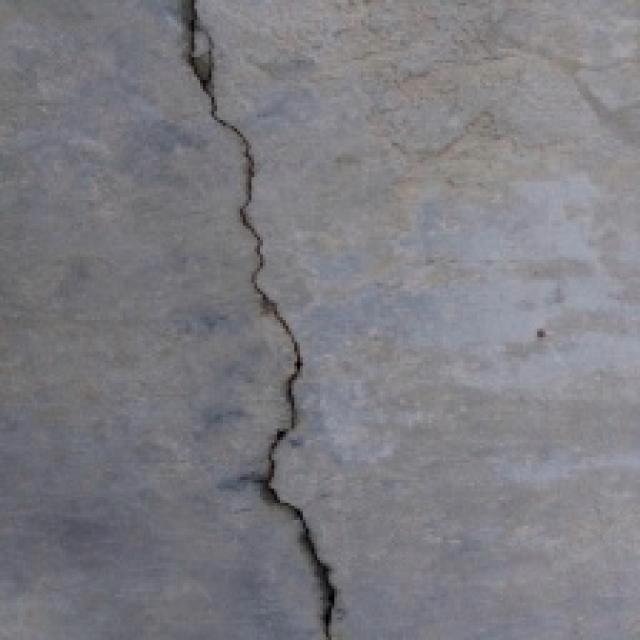crack: (148, 2, 428, 640)
